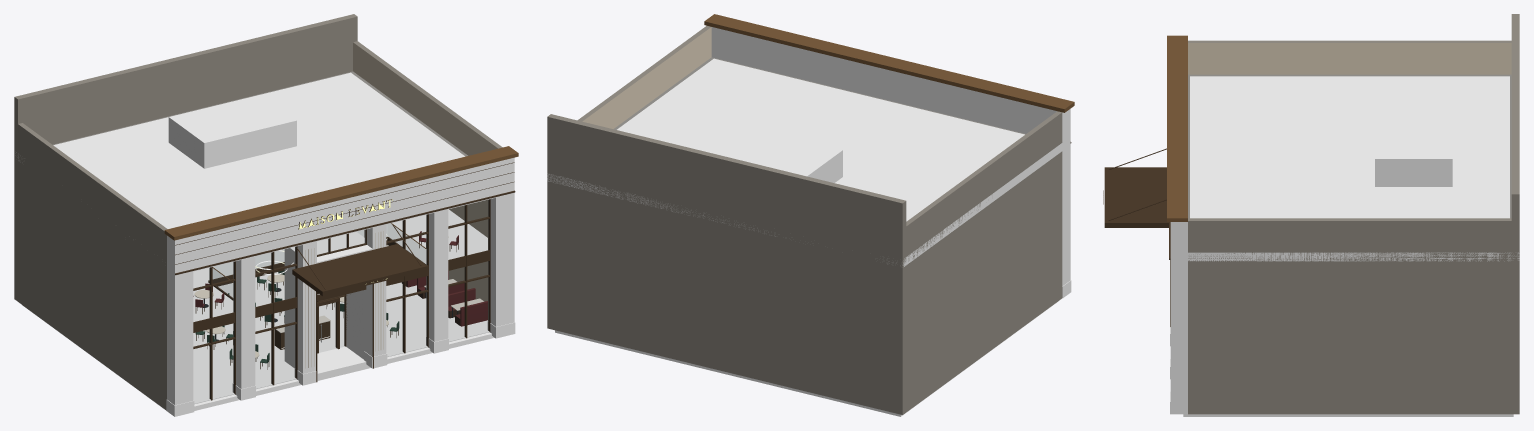
The model's file is maison_levant_lod0.glb.
3 renders of one model, left to right at view 1: azimuth 30°, elevation 25°; view 2: azimuth 150°, elevation 25°; view 3: azimuth 270°, elevation 25°, orthographic. The views are drawn at different scales.
Parts seen in each view (by area): view 1: B01_LOD0_BUILDING_EXTERIOR_Stone, B01_LOD0_BUILDING_EXTERIOR_Roof, B01_LOD0_BUILDING_EXTERIOR_RearInterface, B01_LOD0_BUILDING_INTERIOR_GroundSlab, B01_LOD0_FACADE_DETAILS_Bronze, B01_LOD0_BUILDING_INTERIOR_Slabs, B01_LOD0_FURNITURE_Dining, B01_LOD0_GLASS_SYSTEM_Bay3Frame, B01_LOD0_GLASS_SYSTEM_Bay0Frame, B01_LOD0_GLASS_SYSTEM_Bay1Frame, B01_LOD0_GLASS_SYSTEM_Bay2Frame, B01_LOD0_GLASS_SYSTEM_EntranceFrame; view 2: B01_LOD0_BUILDING_EXTERIOR_Stone, B01_LOD0_BUILDING_EXTERIOR_RearInterface, B01_LOD0_BUILDING_EXTERIOR_Roof, B01_LOD0_FACADE_DETAILS_Bronze, B01_LOD0_BUILDING_INTERIOR_GroundSlab; view 3: B01_LOD0_BUILDING_EXTERIOR_Stone, B01_LOD0_BUILDING_EXTERIOR_Roof, B01_LOD0_FACADE_DETAILS_Bronze, B01_LOD0_BUILDING_EXTERIOR_RearInterface, B01_LOD0_BUILDING_INTERIOR_GroundSlab.
Part boxes in pixels (box(x1,y1,x2,y2)): B01_LOD0_BUILDING_EXTERIOR_Stone: box(14, 41, 515, 416); B01_LOD0_BUILDING_EXTERIOR_Roof: box(15, 71, 514, 275); B01_LOD0_BUILDING_EXTERIOR_RearInterface: box(14, 14, 357, 300); B01_LOD0_BUILDING_INTERIOR_GroundSlab: box(22, 272, 494, 410); B01_LOD0_FACADE_DETAILS_Bronze: box(164, 146, 518, 408); B01_LOD0_BUILDING_INTERIOR_Slabs: box(193, 209, 487, 321); B01_LOD0_FURNITURE_Dining: box(193, 230, 487, 369); B01_LOD0_GLASS_SYSTEM_Bay3Frame: box(448, 199, 490, 338); B01_LOD0_GLASS_SYSTEM_Bay0Frame: box(193, 261, 235, 400); B01_LOD0_GLASS_SYSTEM_Bay1Frame: box(255, 246, 297, 385); B01_LOD0_GLASS_SYSTEM_Bay2Frame: box(386, 214, 428, 353); B01_LOD0_GLASS_SYSTEM_EntranceFrame: box(317, 292, 346, 353); B01_LOD0_BUILDING_EXTERIOR_Stone: box(547, 26, 1071, 414); B01_LOD0_BUILDING_EXTERIOR_RearInterface: box(547, 114, 906, 414); B01_LOD0_BUILDING_EXTERIOR_Roof: box(547, 57, 1070, 266); B01_LOD0_FACADE_DETAILS_Bronze: box(704, 14, 1074, 143); B01_LOD0_BUILDING_INTERIOR_GroundSlab: box(555, 300, 1059, 416); B01_LOD0_BUILDING_EXTERIOR_Stone: box(1170, 40, 1519, 414); B01_LOD0_BUILDING_EXTERIOR_Roof: box(1170, 74, 1519, 261); B01_LOD0_FACADE_DETAILS_Bronze: box(1104, 35, 1187, 259); B01_LOD0_BUILDING_EXTERIOR_RearInterface: box(1511, 14, 1519, 413); B01_LOD0_BUILDING_INTERIOR_GroundSlab: box(1183, 414, 1513, 416).
Size of the model in its own units: 22.3 by 12.82 by 21.47.
